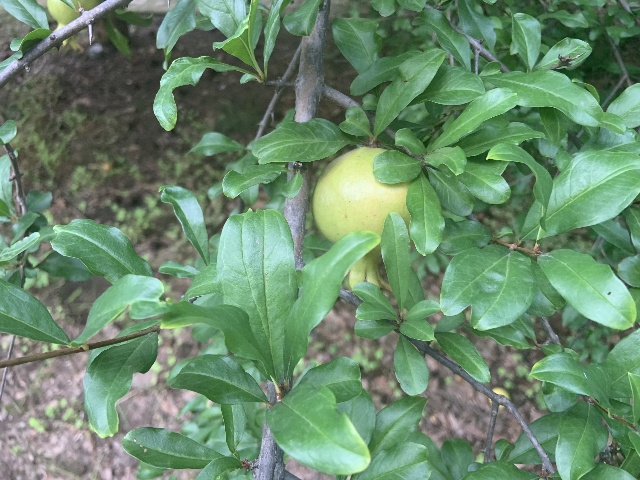mid-growth: (312, 146, 411, 289)
